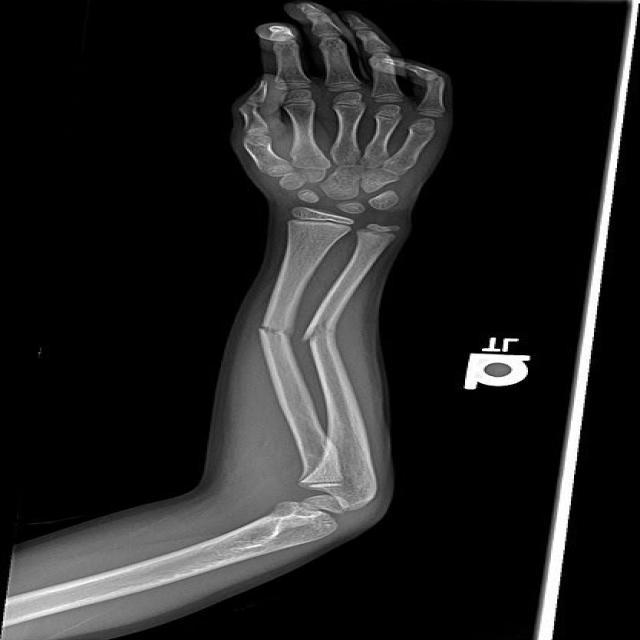bone: (210, 278, 368, 374)
